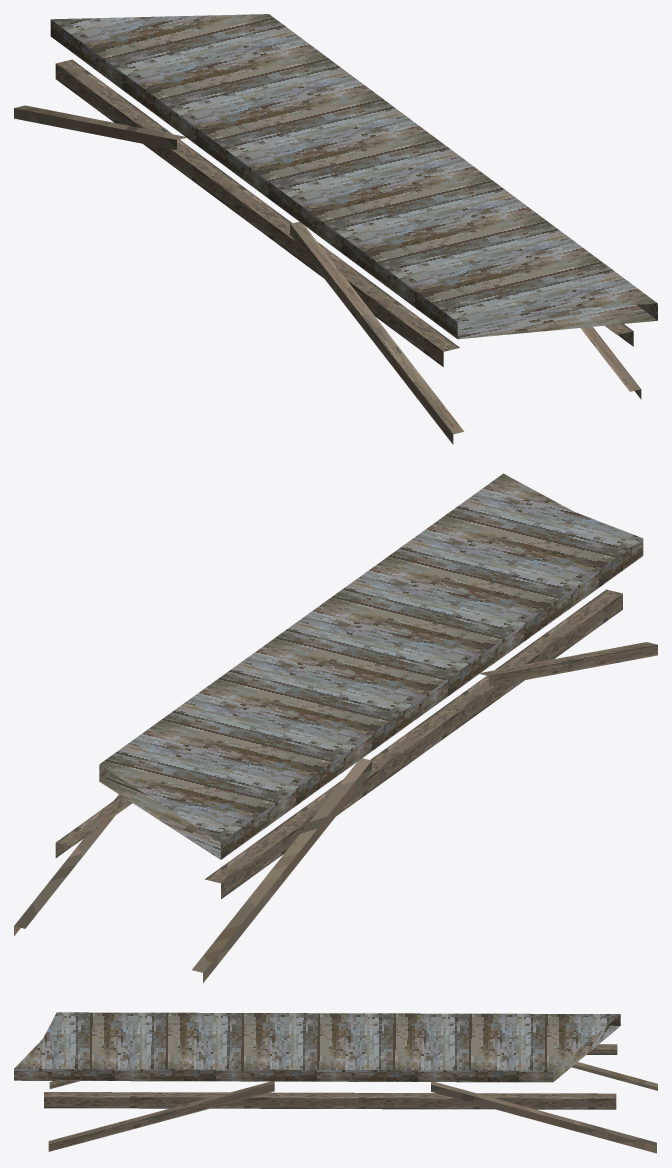
Rendered from lodce_bridge02.obj.
The picture shows the model from 3 angles, top to bottom: view 1: azimuth 30°, elevation 25°; view 2: azimuth 150°, elevation 25°; view 3: azimuth 270°, elevation 25°; orthographic projection. The views are drawn at different scales.
Parts seen in each view (by area): view 1: LODCE_bridge02; view 2: LODCE_bridge02; view 3: LODCE_bridge02.
Part boxes in pixels (x1,y1,x2,y2): LODCE_bridge02: (14, 14, 657, 444); LODCE_bridge02: (14, 473, 657, 982); LODCE_bridge02: (14, 1012, 657, 1153).
Bounding box in the file's own units: 11.67 × 6.78 × 49.42.
Materials: 2 (2 with a texture image).
